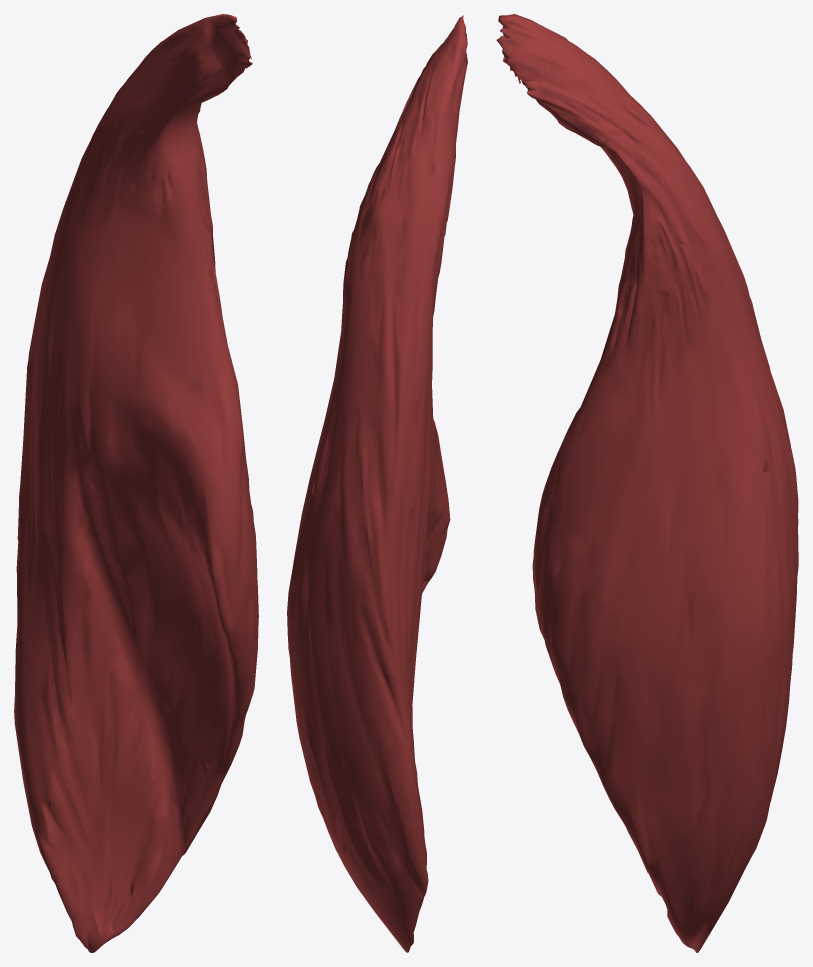
File: medial-head-of-gastrocnemius-r.glb
3 renders of one model, left to right at view 1: azimuth 30°, elevation 25°; view 2: azimuth 150°, elevation 25°; view 3: azimuth 270°, elevation 25°, orthographic. The views are drawn at different scales.
Parts seen in each view (by area): view 1: Medial head of gastrocnemius.r; view 2: Medial head of gastrocnemius.r; view 3: Medial head of gastrocnemius.r.
Part boxes in pixels (<box>): Medial head of gastrocnemius.r: <box>14,14,258,952</box>; Medial head of gastrocnemius.r: <box>287,15,467,952</box>; Medial head of gastrocnemius.r: <box>496,14,798,952</box>.
Size of the model in its own units: 0.0511 by 0.2997 by 0.086.
